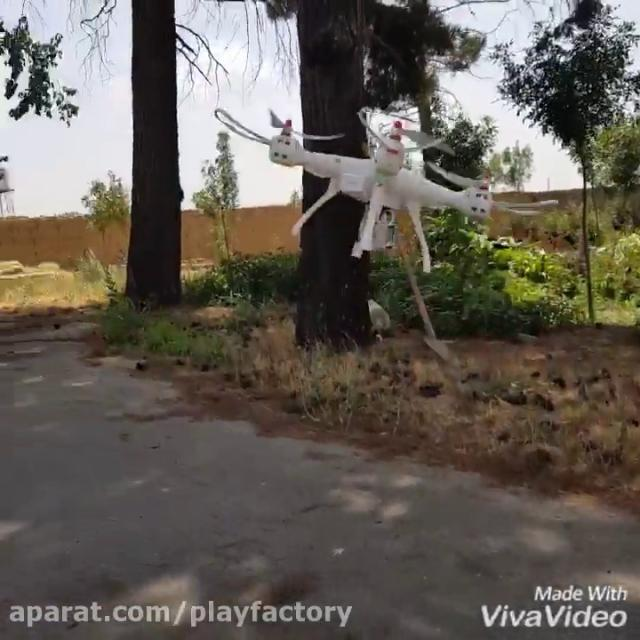drone: (211, 106, 561, 274)
